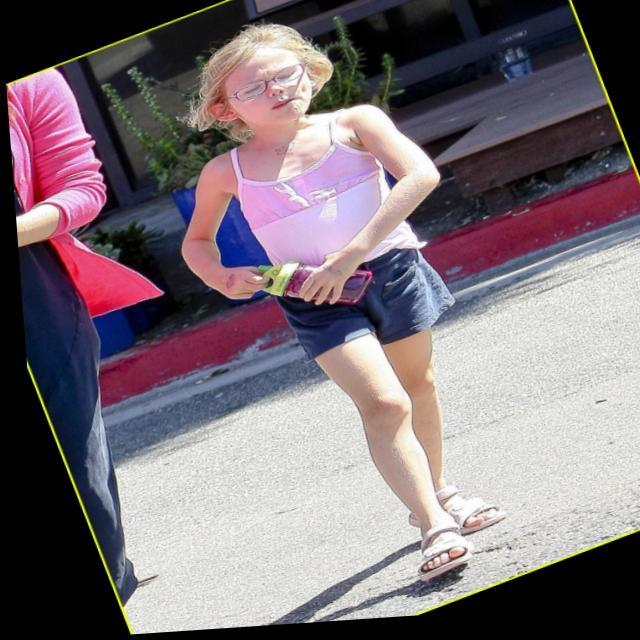Nonhelmet: (186, 13, 329, 138)
